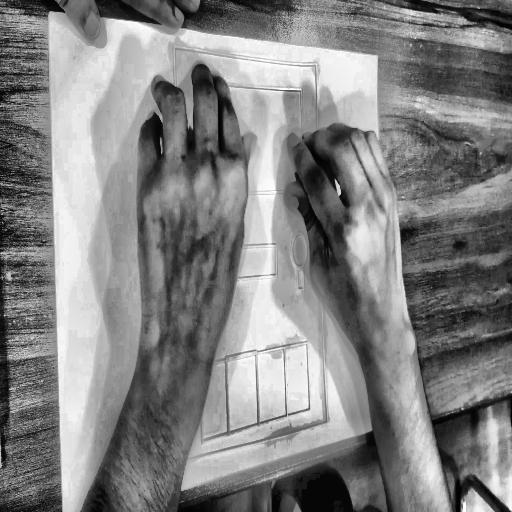bottom_right: (382, 416, 389, 430)
door: (169, 35, 334, 470)
top_left: (48, 9, 53, 18)
top_right: (375, 53, 380, 61)
